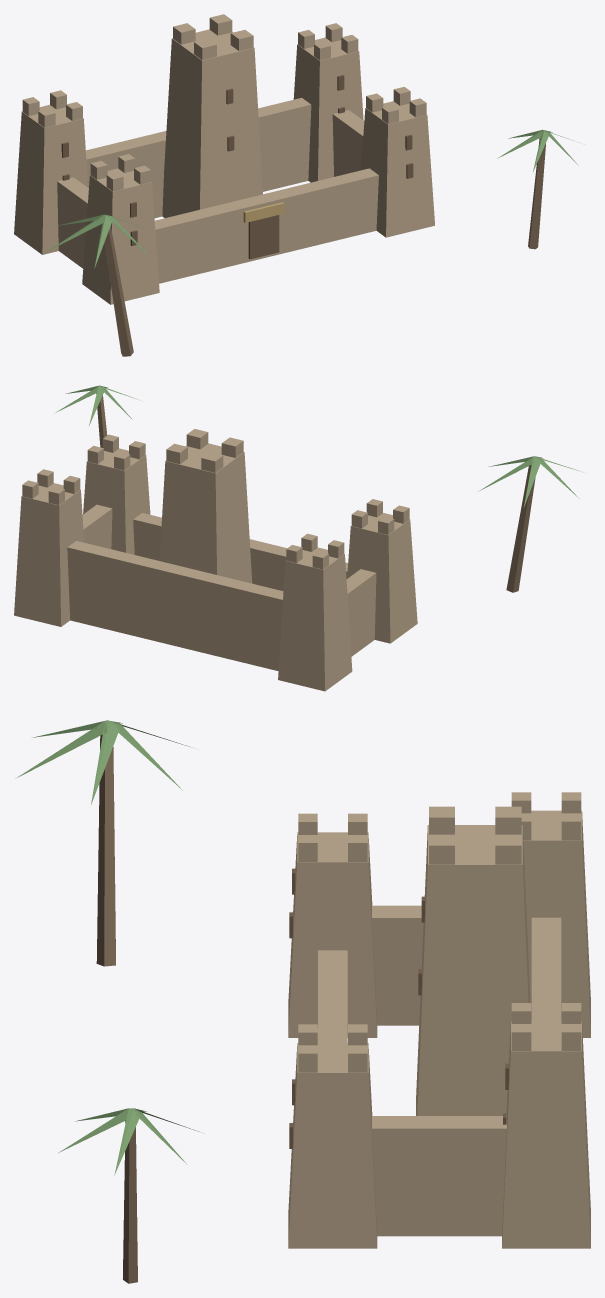
Rendered from kasbah.glb.
The picture shows the model from 3 angles, top to bottom: view 1: azimuth 30°, elevation 25°; view 2: azimuth 150°, elevation 25°; view 3: azimuth 270°, elevation 25°; orthographic projection. The views are drawn at different scales.
Parts seen in each view (by area): view 1: LOD0; view 2: LOD0; view 3: LOD0.
Boxes of the visible parts, x1,y1,x2,y2 form: LOD0: (14,14,579,356); LOD0: (14,385,583,691); LOD0: (15,720,590,1283).
Size of what is drawn, in the model's own units: 1.65 by 0.555 by 0.9726.
